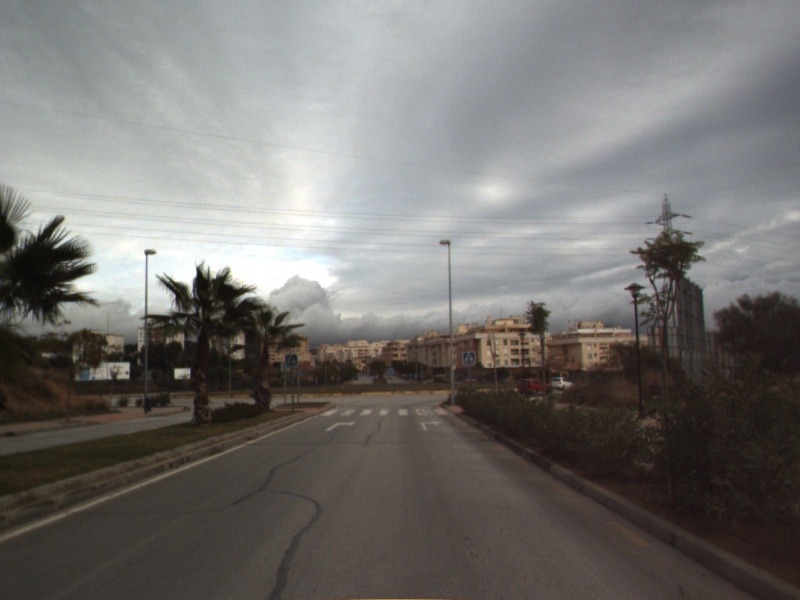RIGHT: (323, 418, 358, 433), (418, 418, 442, 432)
